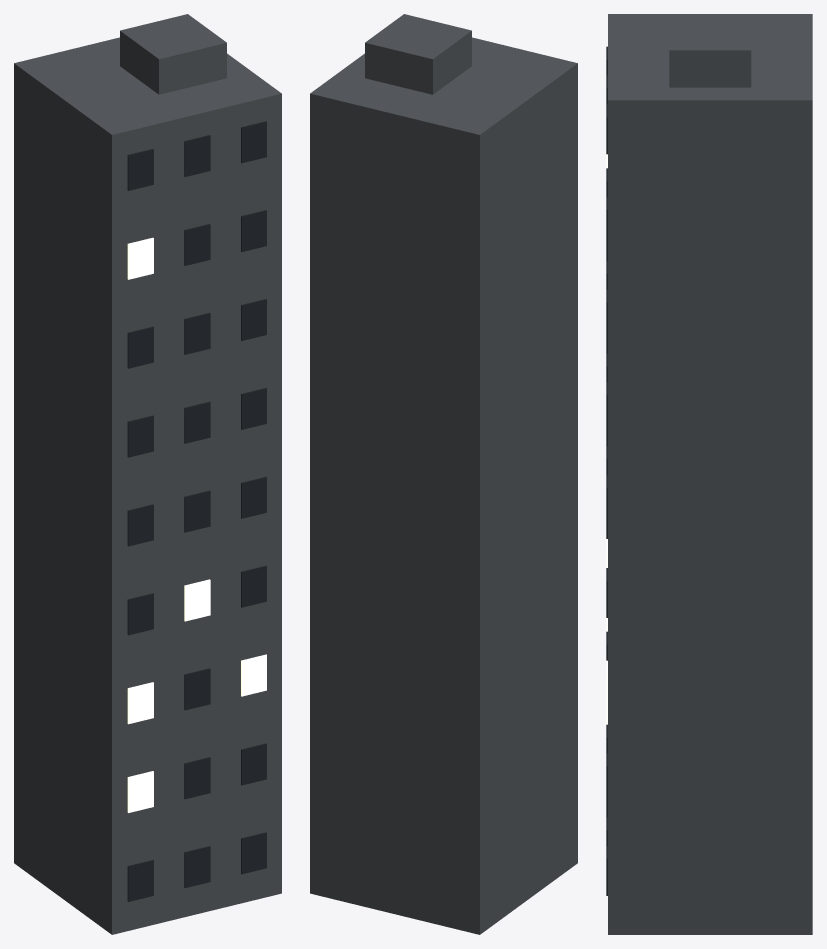
File: buildingTall.glb
3 views of the same model, side by side, from view 1: azimuth 30°, elevation 25°; view 2: azimuth 150°, elevation 25°; view 3: azimuth 270°, elevation 25° (orthographic). The views are drawn at different scales.
Parts seen in each view (by area): view 1: buildingTall; view 2: buildingTall; view 3: buildingTall.
Boxes of the visible parts, x1,y1,x2,y2 form: buildingTall: (14, 14, 281, 934); buildingTall: (310, 14, 577, 934); buildingTall: (606, 14, 812, 934).
Bounding box in the file's own units: 6 × 28.2 × 6.05.
